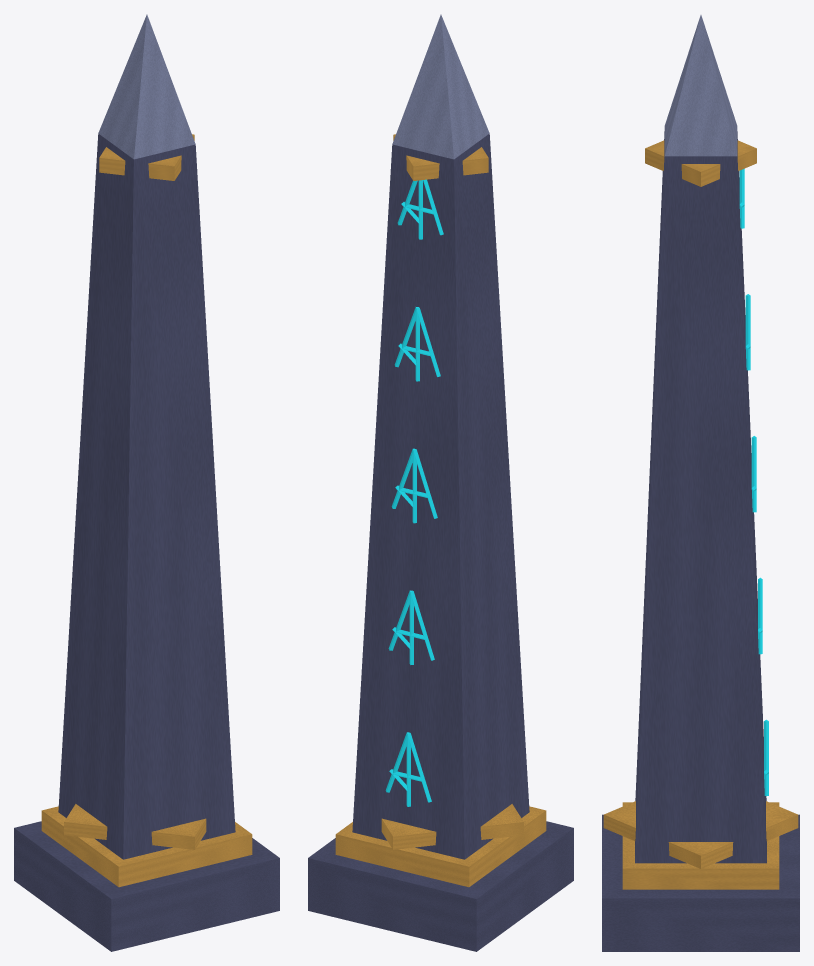
File: obelisk.glb
3 renders of one model, left to right at view 1: azimuth 30°, elevation 25°; view 2: azimuth 150°, elevation 25°; view 3: azimuth 270°, elevation 25°, orthographic.
Parts seen in each view (by area): view 1: obelisk; view 2: obelisk; view 3: obelisk.
Boxes of the visible parts, bbox=[...] form: obelisk: bbox=[14, 14, 279, 951]; obelisk: bbox=[308, 14, 573, 951]; obelisk: bbox=[602, 15, 799, 951].
Size of the model in its own units: 1.2 by 6 by 1.2.
1 material, 1 textured.
